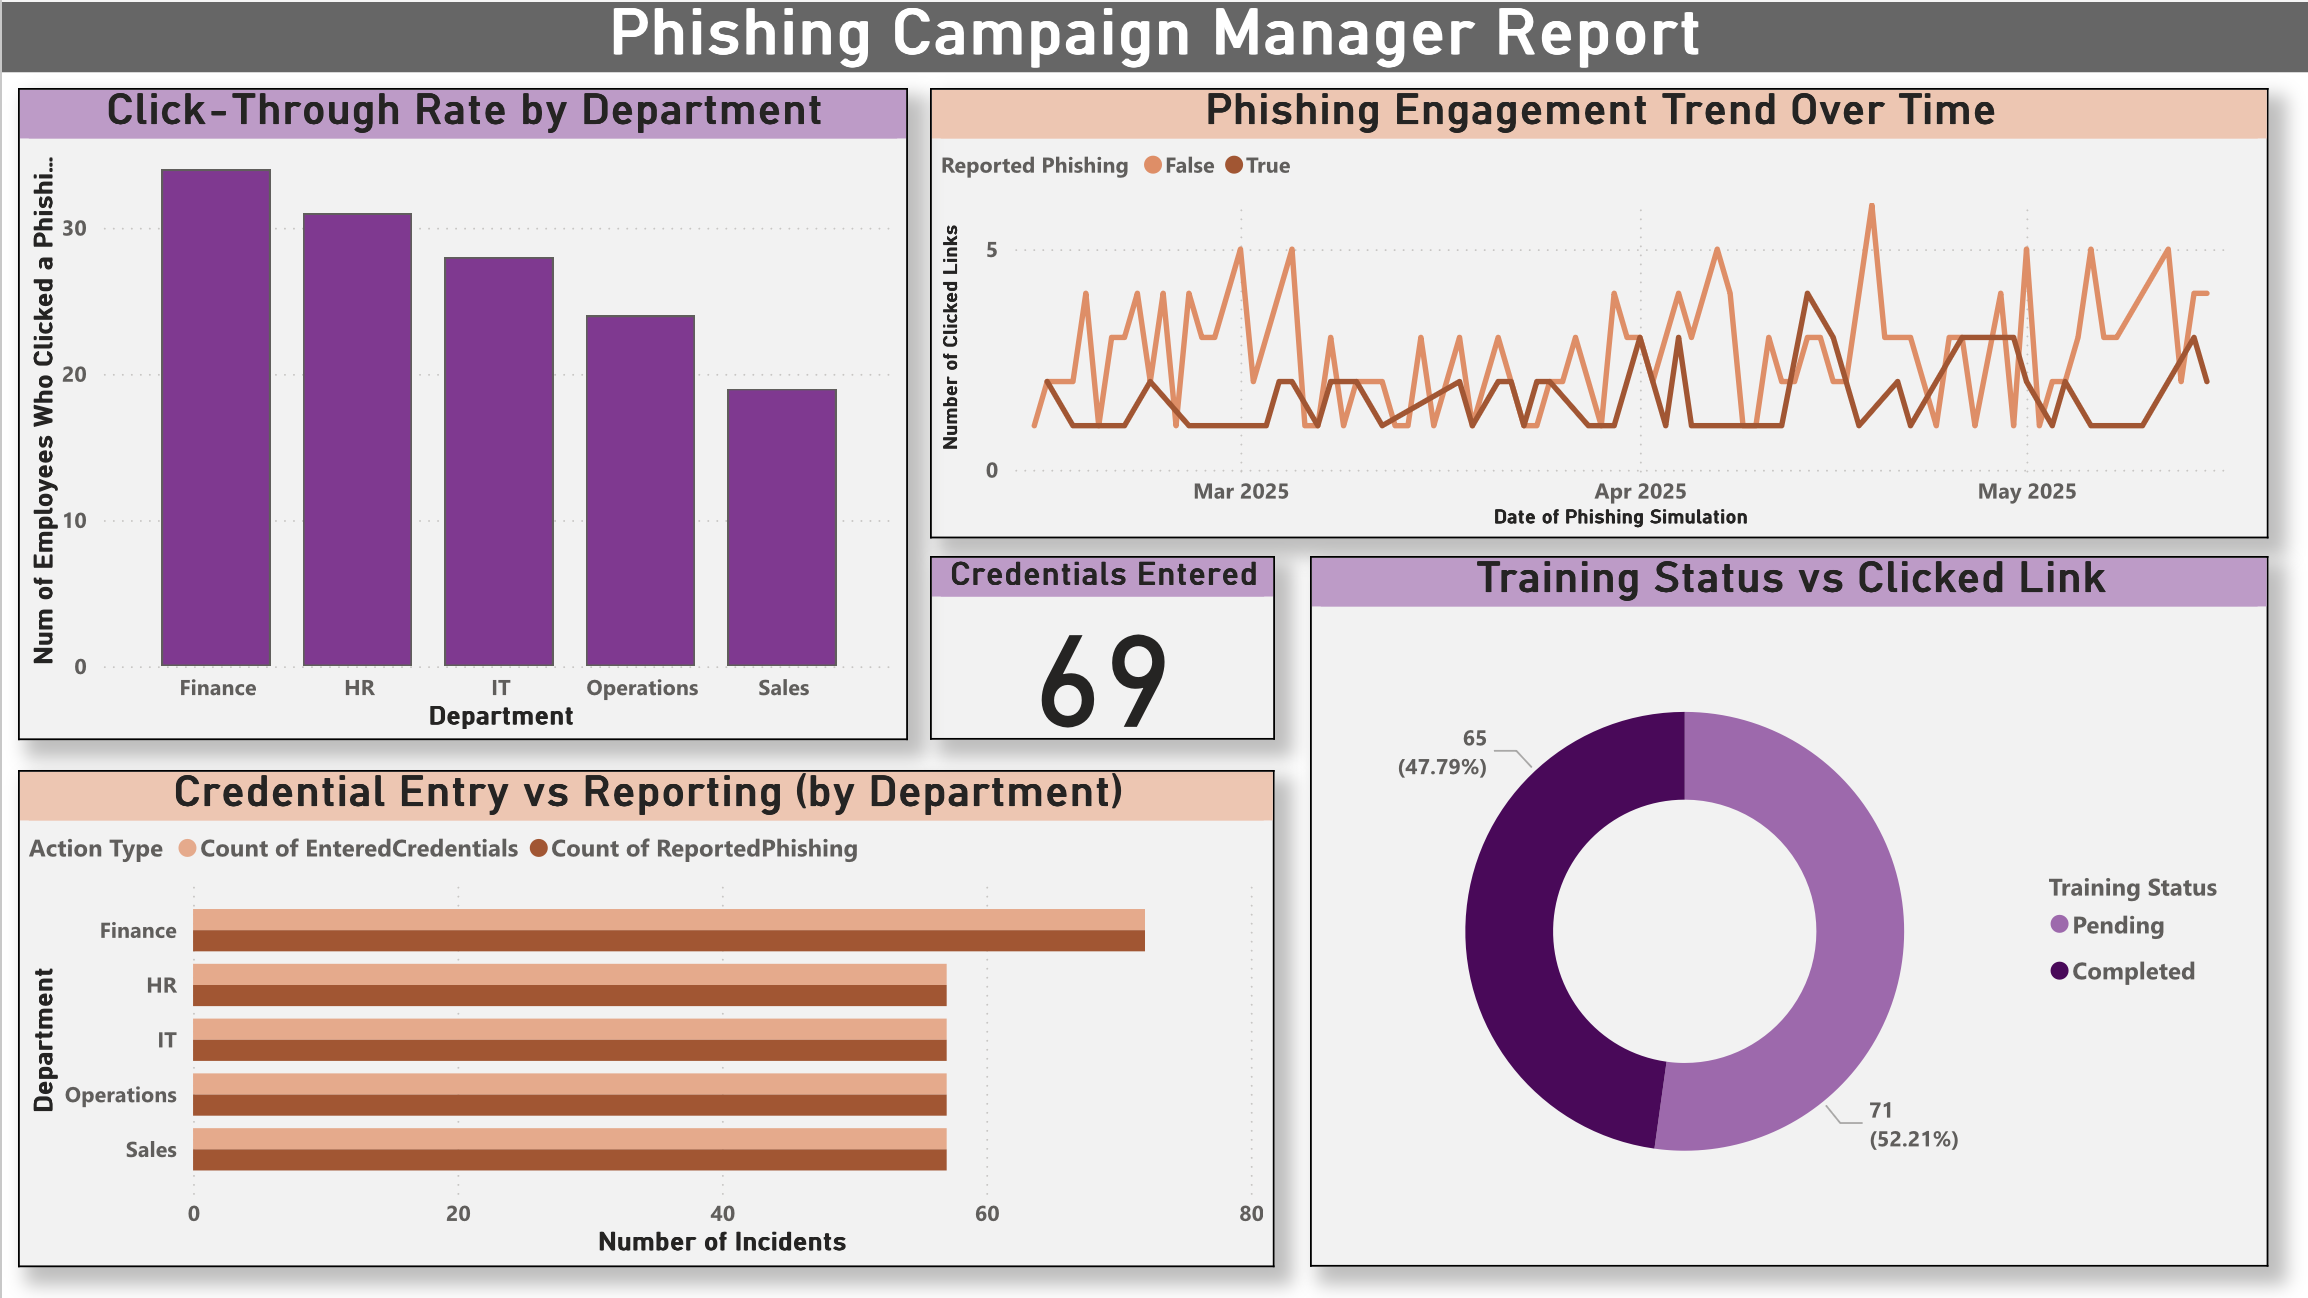

This screenshot's page, from the dashboard's own definition file:
{"tool":"powerbi","page":{"name":"Phishing","canvas":[1280,720],"ordinal":0},"visuals":[{"type":"clusteredColumnChart","title":"Click-Through Rate by Department","fields":{"Category":["Employee.Department"],"Y":["CountNonNull(PhishingCampaign.ClickedLink)"]},"box":[9.3,47.4,493.9,362.1],"z":0},{"type":"lineChart","title":"Phishing Engagement Trend Over Time","fields":{"Y":["CountNonNull(PhishingCampaign.ClickedLink)"],"Category":["PhishingCampaign.EmailSentDate"],"Series":["PhishingCampaign.ReportedPhishing"]},"box":[515.3,47.4,742.8,249.8],"z":1000},{"type":"clusteredBarChart","title":"Credential Entry vs Reporting (by Department)","fields":{"Category":["Employee.Department"],"Y":["CountNonNull(PhishingCampaign.EnteredCredentials)","CountNonNull(PhishingCampaign.ReportedPhishing)"]},"box":[9.3,426.2,697.3,275.8],"z":2000},{"type":"donutChart","title":"Training Status vs Clicked Link","fields":{"Category":["PhishingCampaign.TrainingStatus"],"Y":["CountNonNull(PhishingCampaign.ClickedLink)"],"Series":["PhishingCampaign.ClickedLink"]},"box":[726.1,307.3,532,394.6],"z":3000},{"type":"card","title":"Credentials Entered","fields":{"Values":["CountNonNull(PhishingCampaign.EnteredCredentials)"]},"box":[515.3,307.3,191.3,102.1],"z":4000},{"type":"textbox","title":"Phishing Campaign Manager Report","box":[0,0,1280.4,39],"z":5000}]}

Visuals, with their boxes in screenshot pixels (x1, y1, x2, y2), scaled from the page's 1280x720 canvas onto the 2308x1298 screenshot:
"Click-Through Rate by Department" clusteredColumnChart: 17,85,907,738
"Phishing Engagement Trend Over Time" lineChart: 929,85,2269,536
"Credential Entry vs Reporting (by Department)" clusteredBarChart: 17,768,1274,1266
"Training Status vs Clicked Link" donutChart: 1309,554,2269,1265
"Credentials Entered" card: 929,554,1274,738
"Phishing Campaign Manager Report" textbox: 0,0,2307,70
